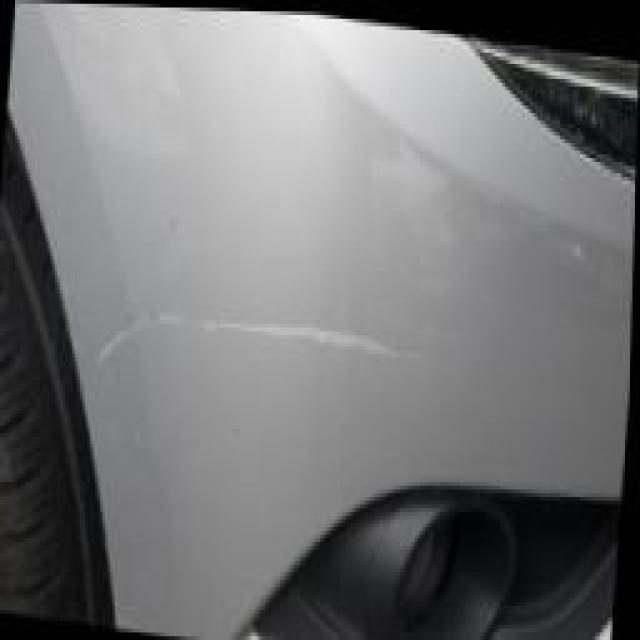Bumper: (72, 218, 453, 484)
